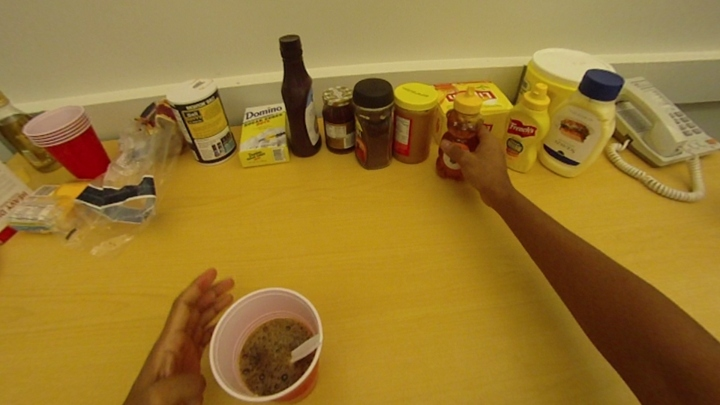hand: (124, 260, 229, 405), (437, 113, 524, 203)
